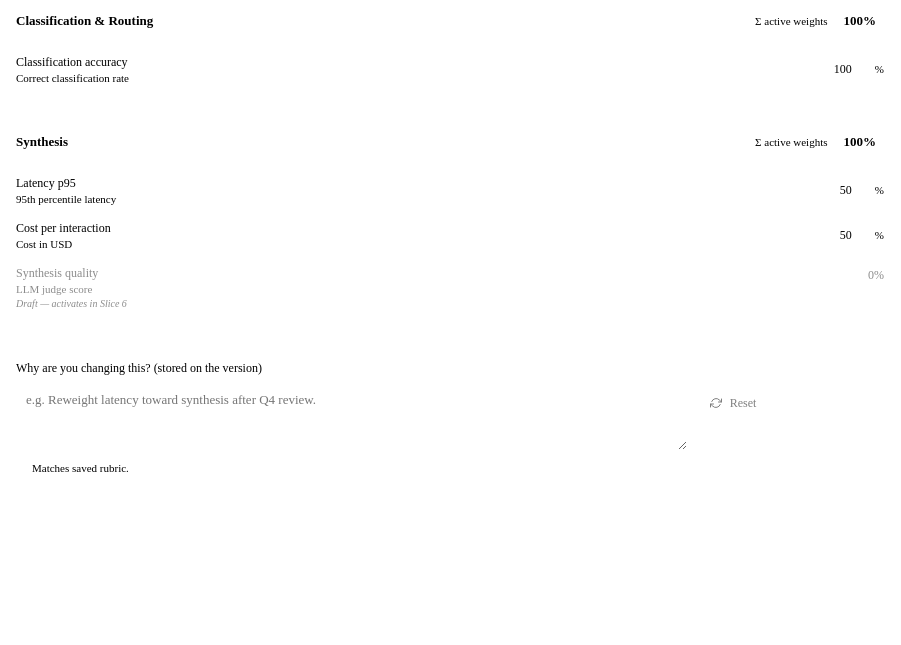
Test case: RubricEditor › renders normalization-stale-tier_3 banner naming the stale dim
Replace the text in the number field with test id "weight-input-tier_3.latency_p95" with "40" at (841, 190), box left=811, top=176, right=871, bottom=204
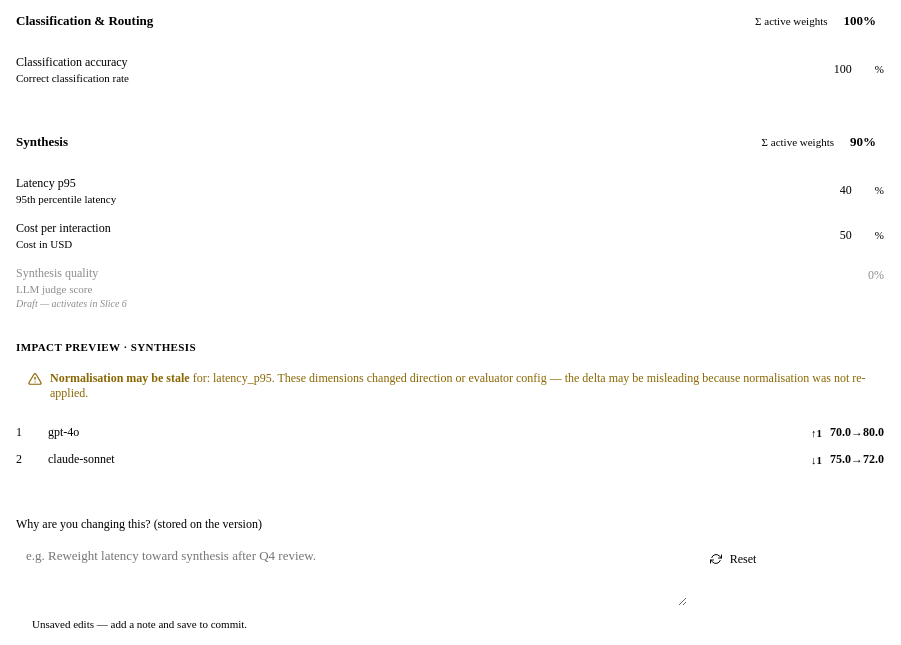
Result: the element with test id "normalization-stale-tier_3" is shown at left=16, top=363, right=884, bottom=409
Result: the element with test id "normalization-stale-tier_3" shows "latency_p95" at left=213, top=371, right=272, bottom=385
